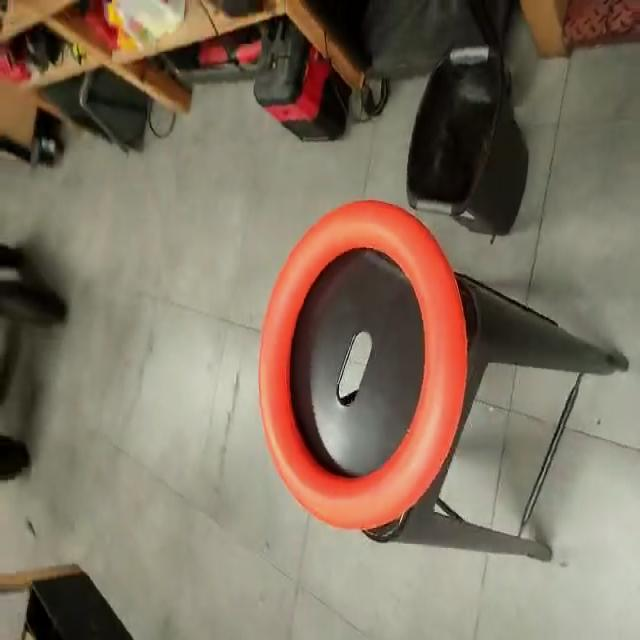note: (256, 200, 471, 532)
